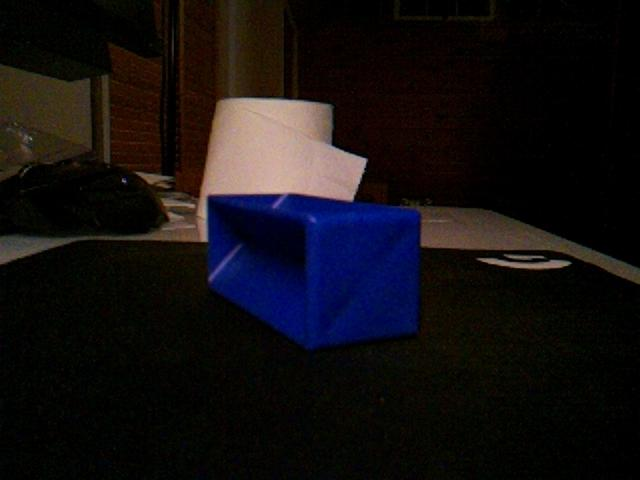blue: (205, 191, 423, 352)
